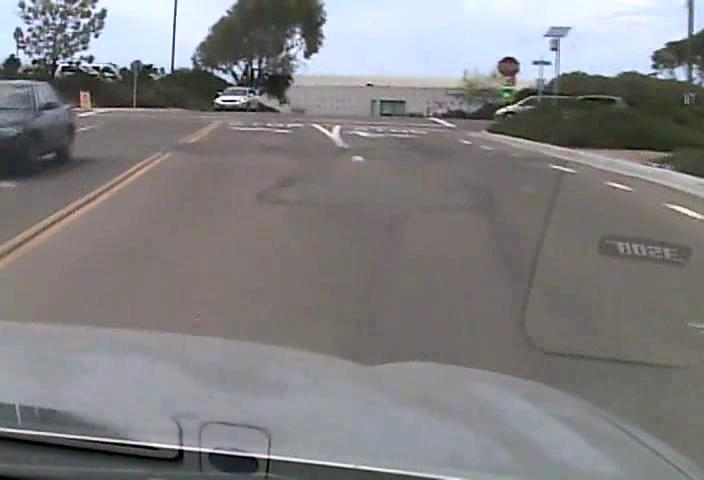stop: (496, 55, 520, 78)
